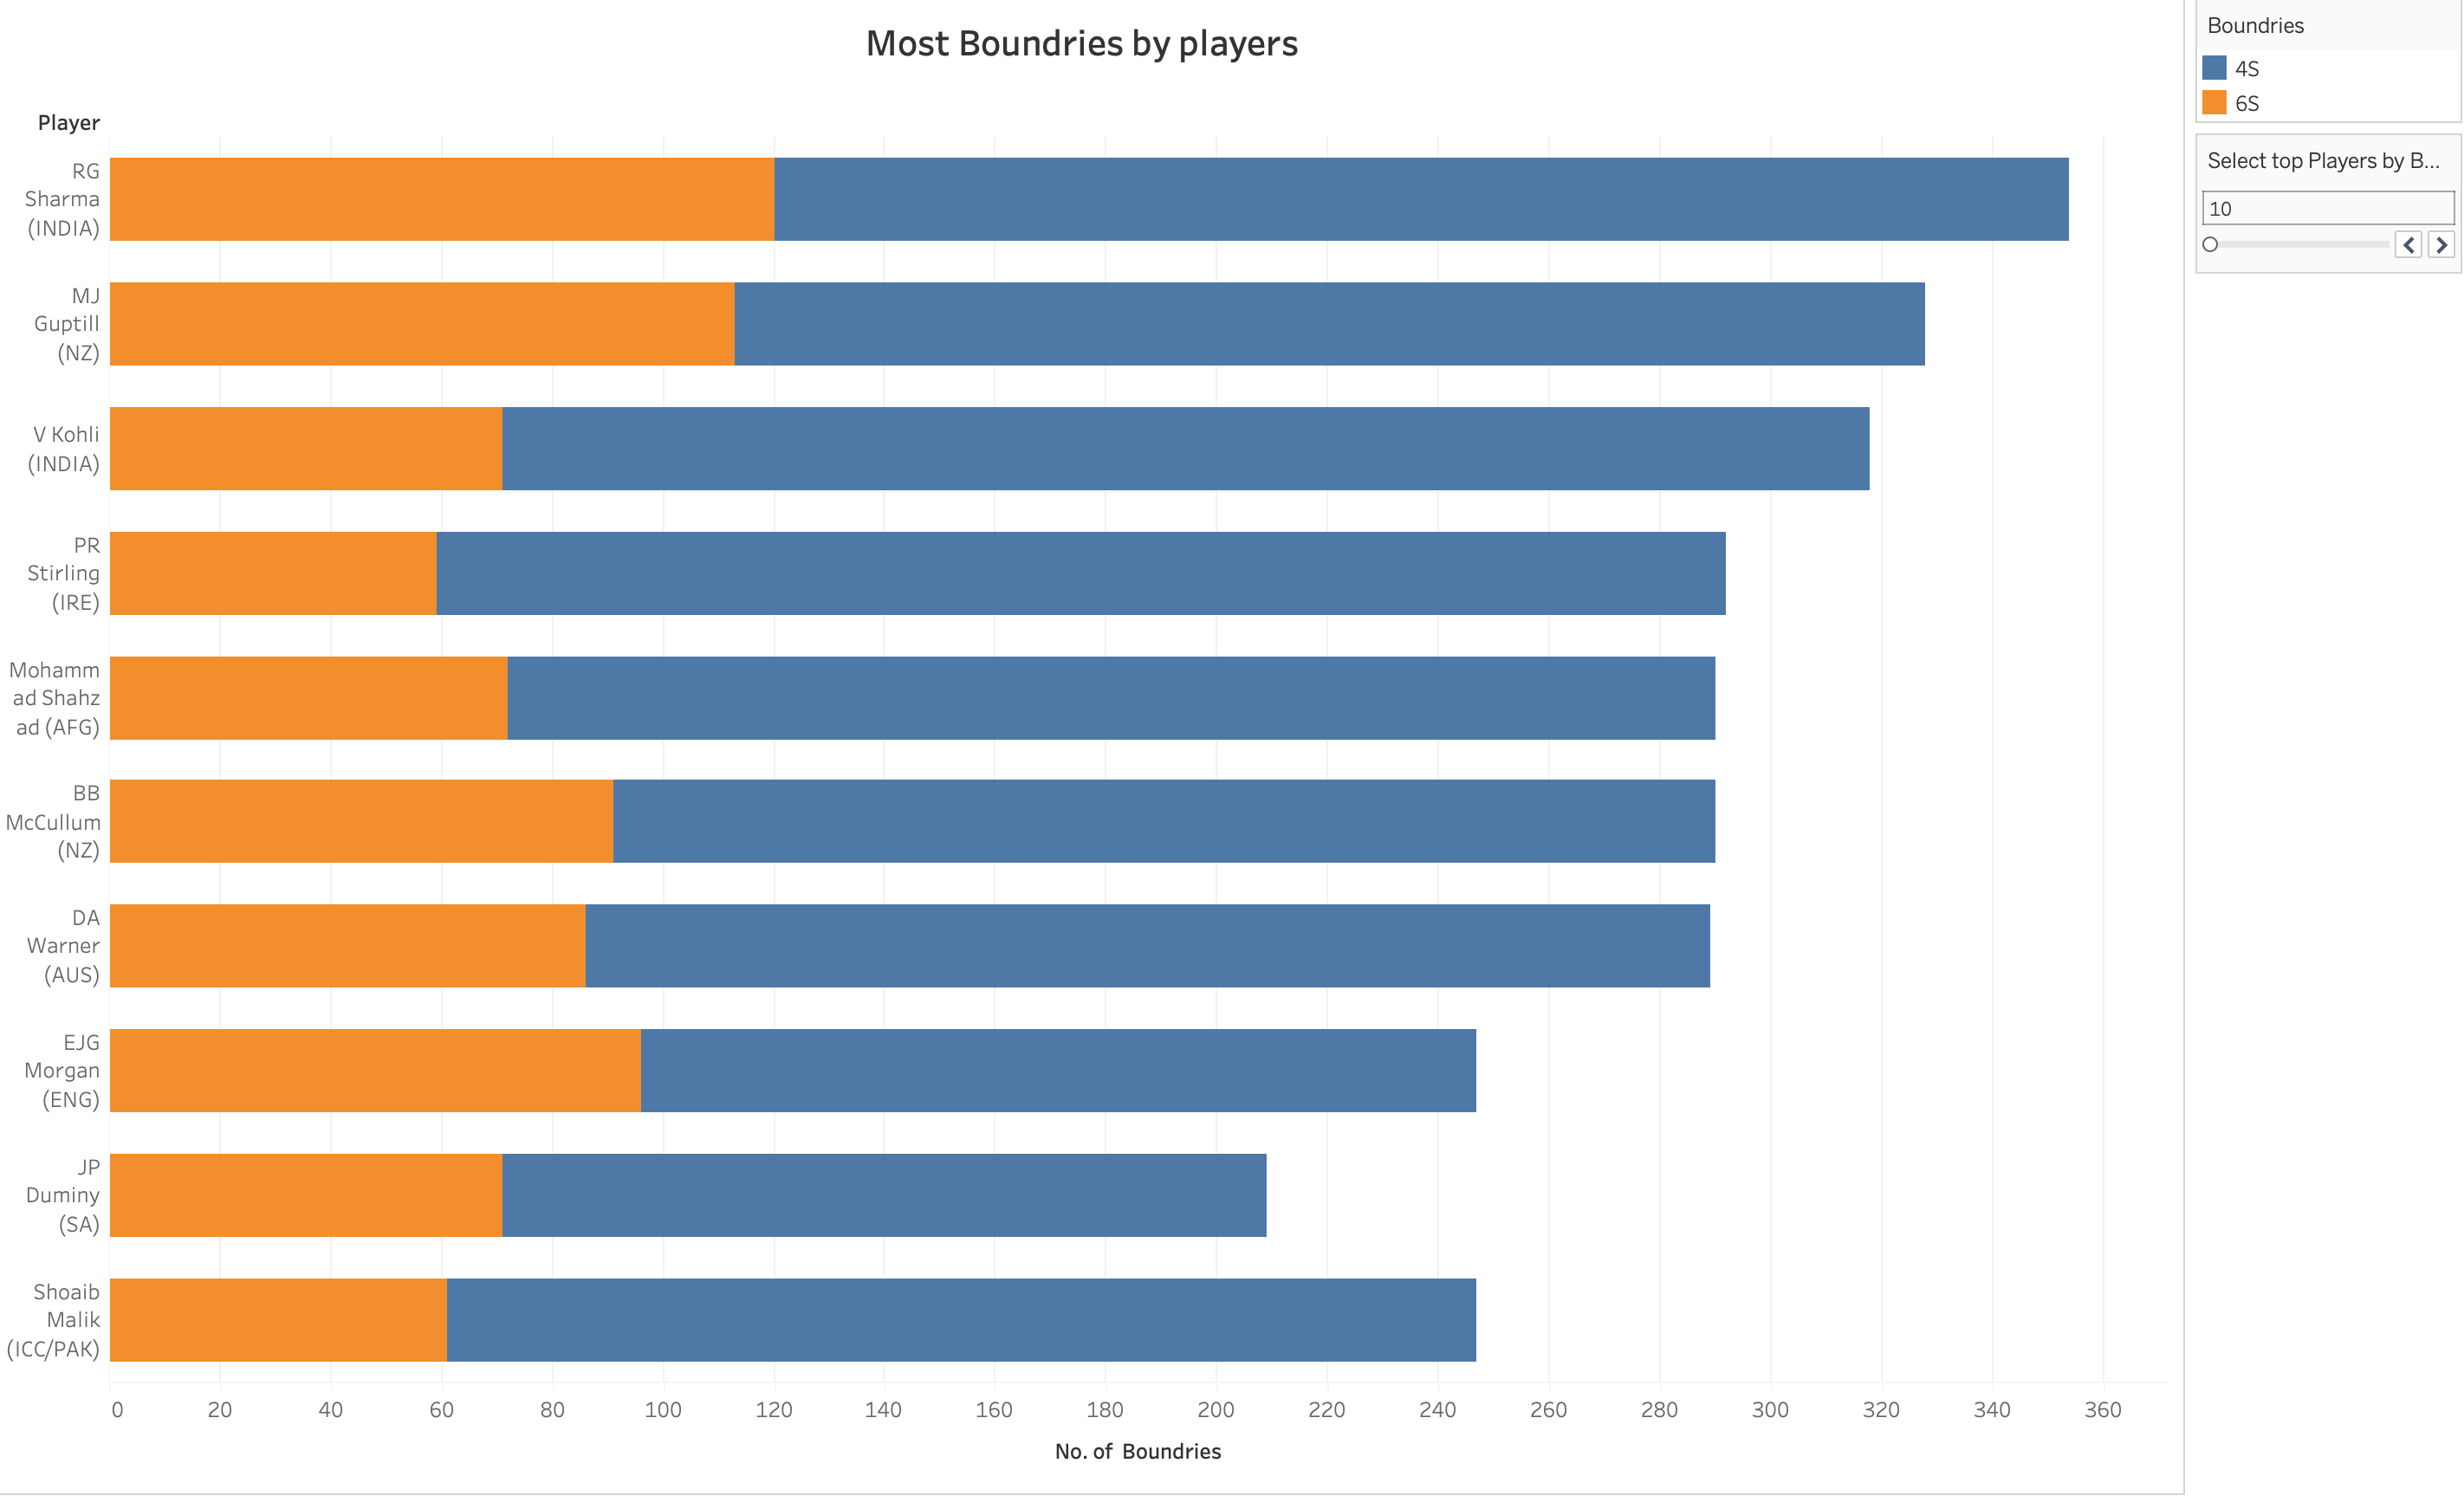

What the dashboard file says about the page in this screenshot:
{"tool":"tableau","page":{"name":"Insight 4","canvas":[1000,800],"ordinal":3},"visuals":[{"type":"worksheet","title":"Most Boundries by players ","mark":"Bar","rows":["Player"],"box":[8,8,771,784]},{"type":"legend","title":"Most Boundries by players ","param":"[federated.1d1vdhb0kooepm1acbi5z0xqp1hr].[:Measure Names]","box":[779,8,213,67]},{"type":"parameter","param":"[Parameters].[Parameter 2]","box":[779,75,213,75]},{"type":"text","box":[779,150,213,316]}]}

Visuals, with their boxes on the page's 1000x800 design canvas (x1, y1, x2, y2). These are canvas units, not pixel positions in the 2464x1502 screenshot, which may show the page scaled, cropped or inside an application window:
"Most Boundries by players " worksheet (Bar marks): select_region(8, 8, 779, 792)
"Most Boundries by players " legend: select_region(779, 8, 992, 75)
parameter: select_region(779, 75, 992, 150)
text: select_region(779, 150, 992, 466)
